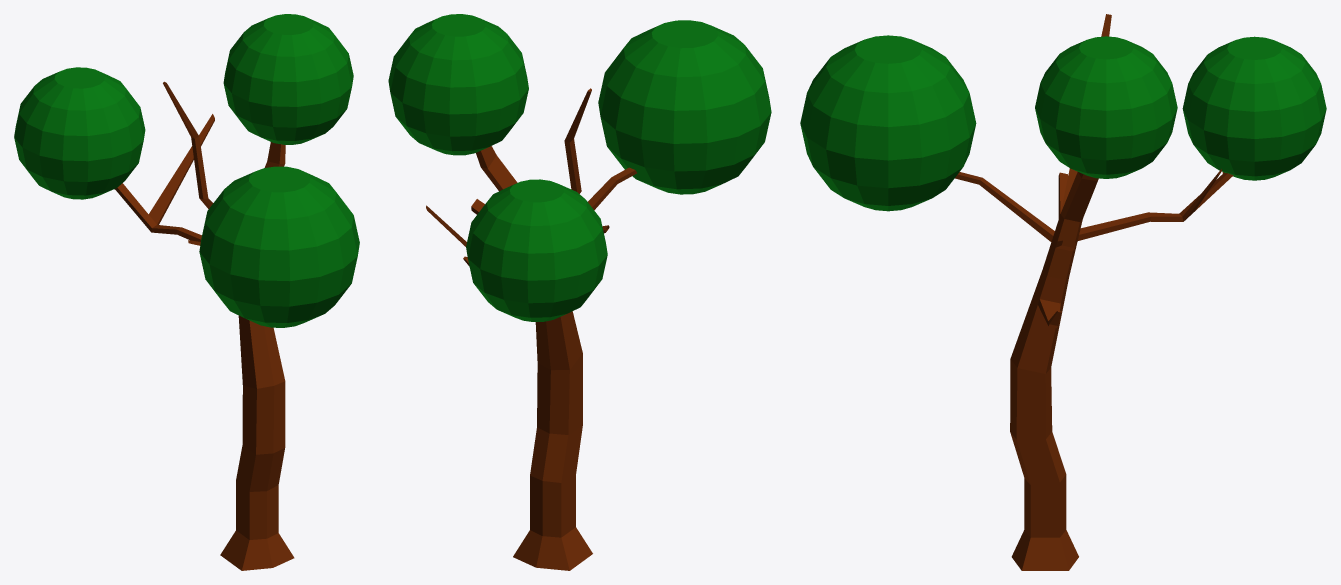
The model's file is _ree1.fbx.
3 renders of one model, left to right at view 1: azimuth 30°, elevation 25°; view 2: azimuth 150°, elevation 25°; view 3: azimuth 270°, elevation 25°, orthographic. The views are drawn at different scales.
Visible parts, largest first — view 1: Leaf2, Tree, Leaf2.001, Leaf1; view 2: Leaf2, Leaf2.001, Leaf1, Tree; view 3: Leaf2, Tree, Leaf2.001, Leaf1.
Part boxes in pixels (left/top/right/bottom): Leaf2: left=199, top=166, right=359, bottom=327; Tree: left=114, top=81, right=294, bottom=570; Leaf2.001: left=14, top=67, right=145, bottom=199; Leaf1: left=223, top=14, right=353, bottom=144; Leaf2: left=598, top=20, right=771, bottom=194; Leaf2.001: left=466, top=179, right=607, bottom=321; Leaf1: left=388, top=14, right=528, bottom=155; Tree: left=426, top=88, right=636, bottom=570; Leaf2: left=800, top=35, right=976, bottom=211; Tree: left=955, top=14, right=1233, bottom=570; Leaf2.001: left=1182, top=36, right=1326, bottom=180; Leaf1: left=1035, top=36, right=1177, bottom=178.
Bounding box in the file's own units: 1354 × 2524 × 2228.
